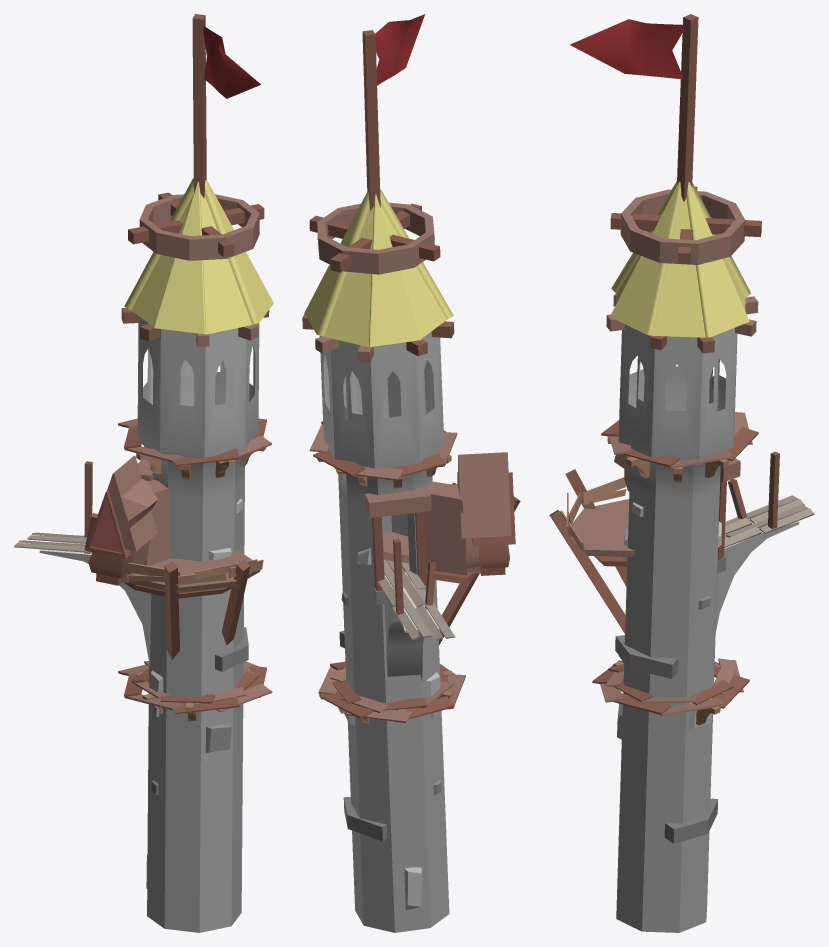
The model's file is Enviroment toren links.fbx.
3 views of the same model, side by side, from view 1: azimuth 30°, elevation 25°; view 2: azimuth 150°, elevation 25°; view 3: azimuth 270°, elevation 25° (orthographic). The views are drawn at different scales.
Parts seen in each view (by area): view 1: WATCH_TOWER_1_LINKS; view 2: WATCH_TOWER_1_LINKS; view 3: WATCH_TOWER_1_LINKS.
Boxes of the visible parts, x1,y1,x2,y2 form: WATCH_TOWER_1_LINKS: (14,14,273,932); WATCH_TOWER_1_LINKS: (302,14,520,932); WATCH_TOWER_1_LINKS: (549,14,814,932).
Size of the model in its own units: 20.17 by 87.36 by 23.19.
